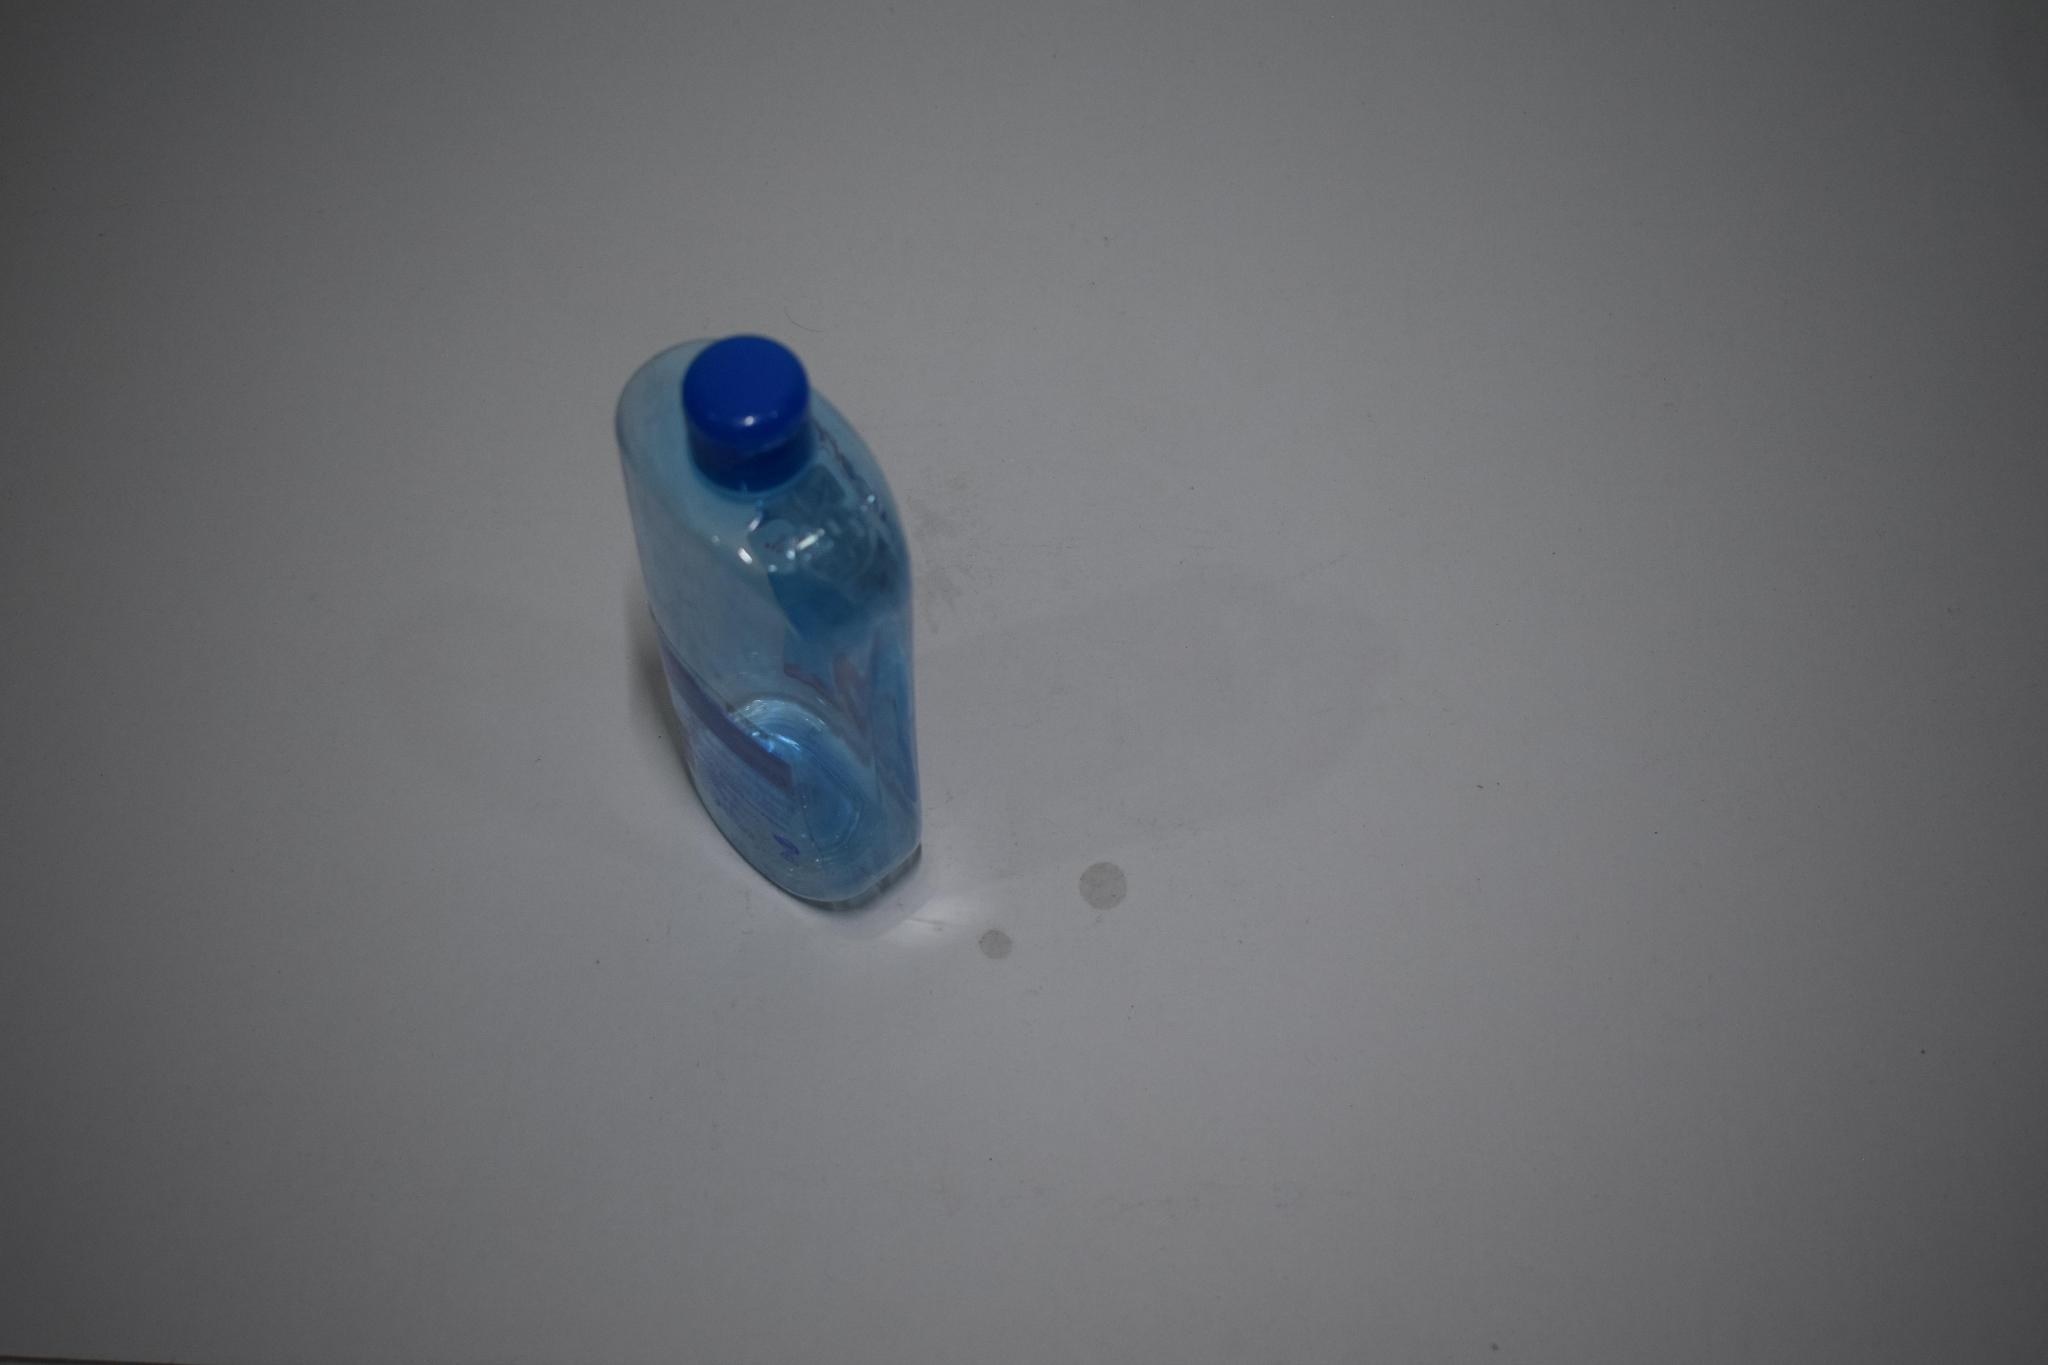bottle: (586, 253, 965, 951)
